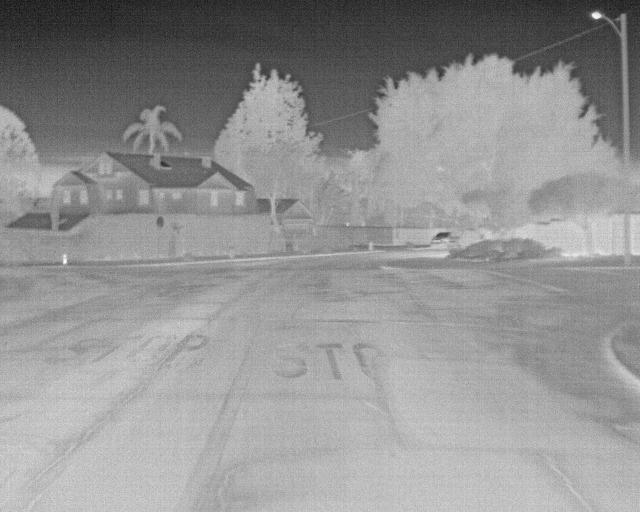car: (428, 229, 459, 248)
